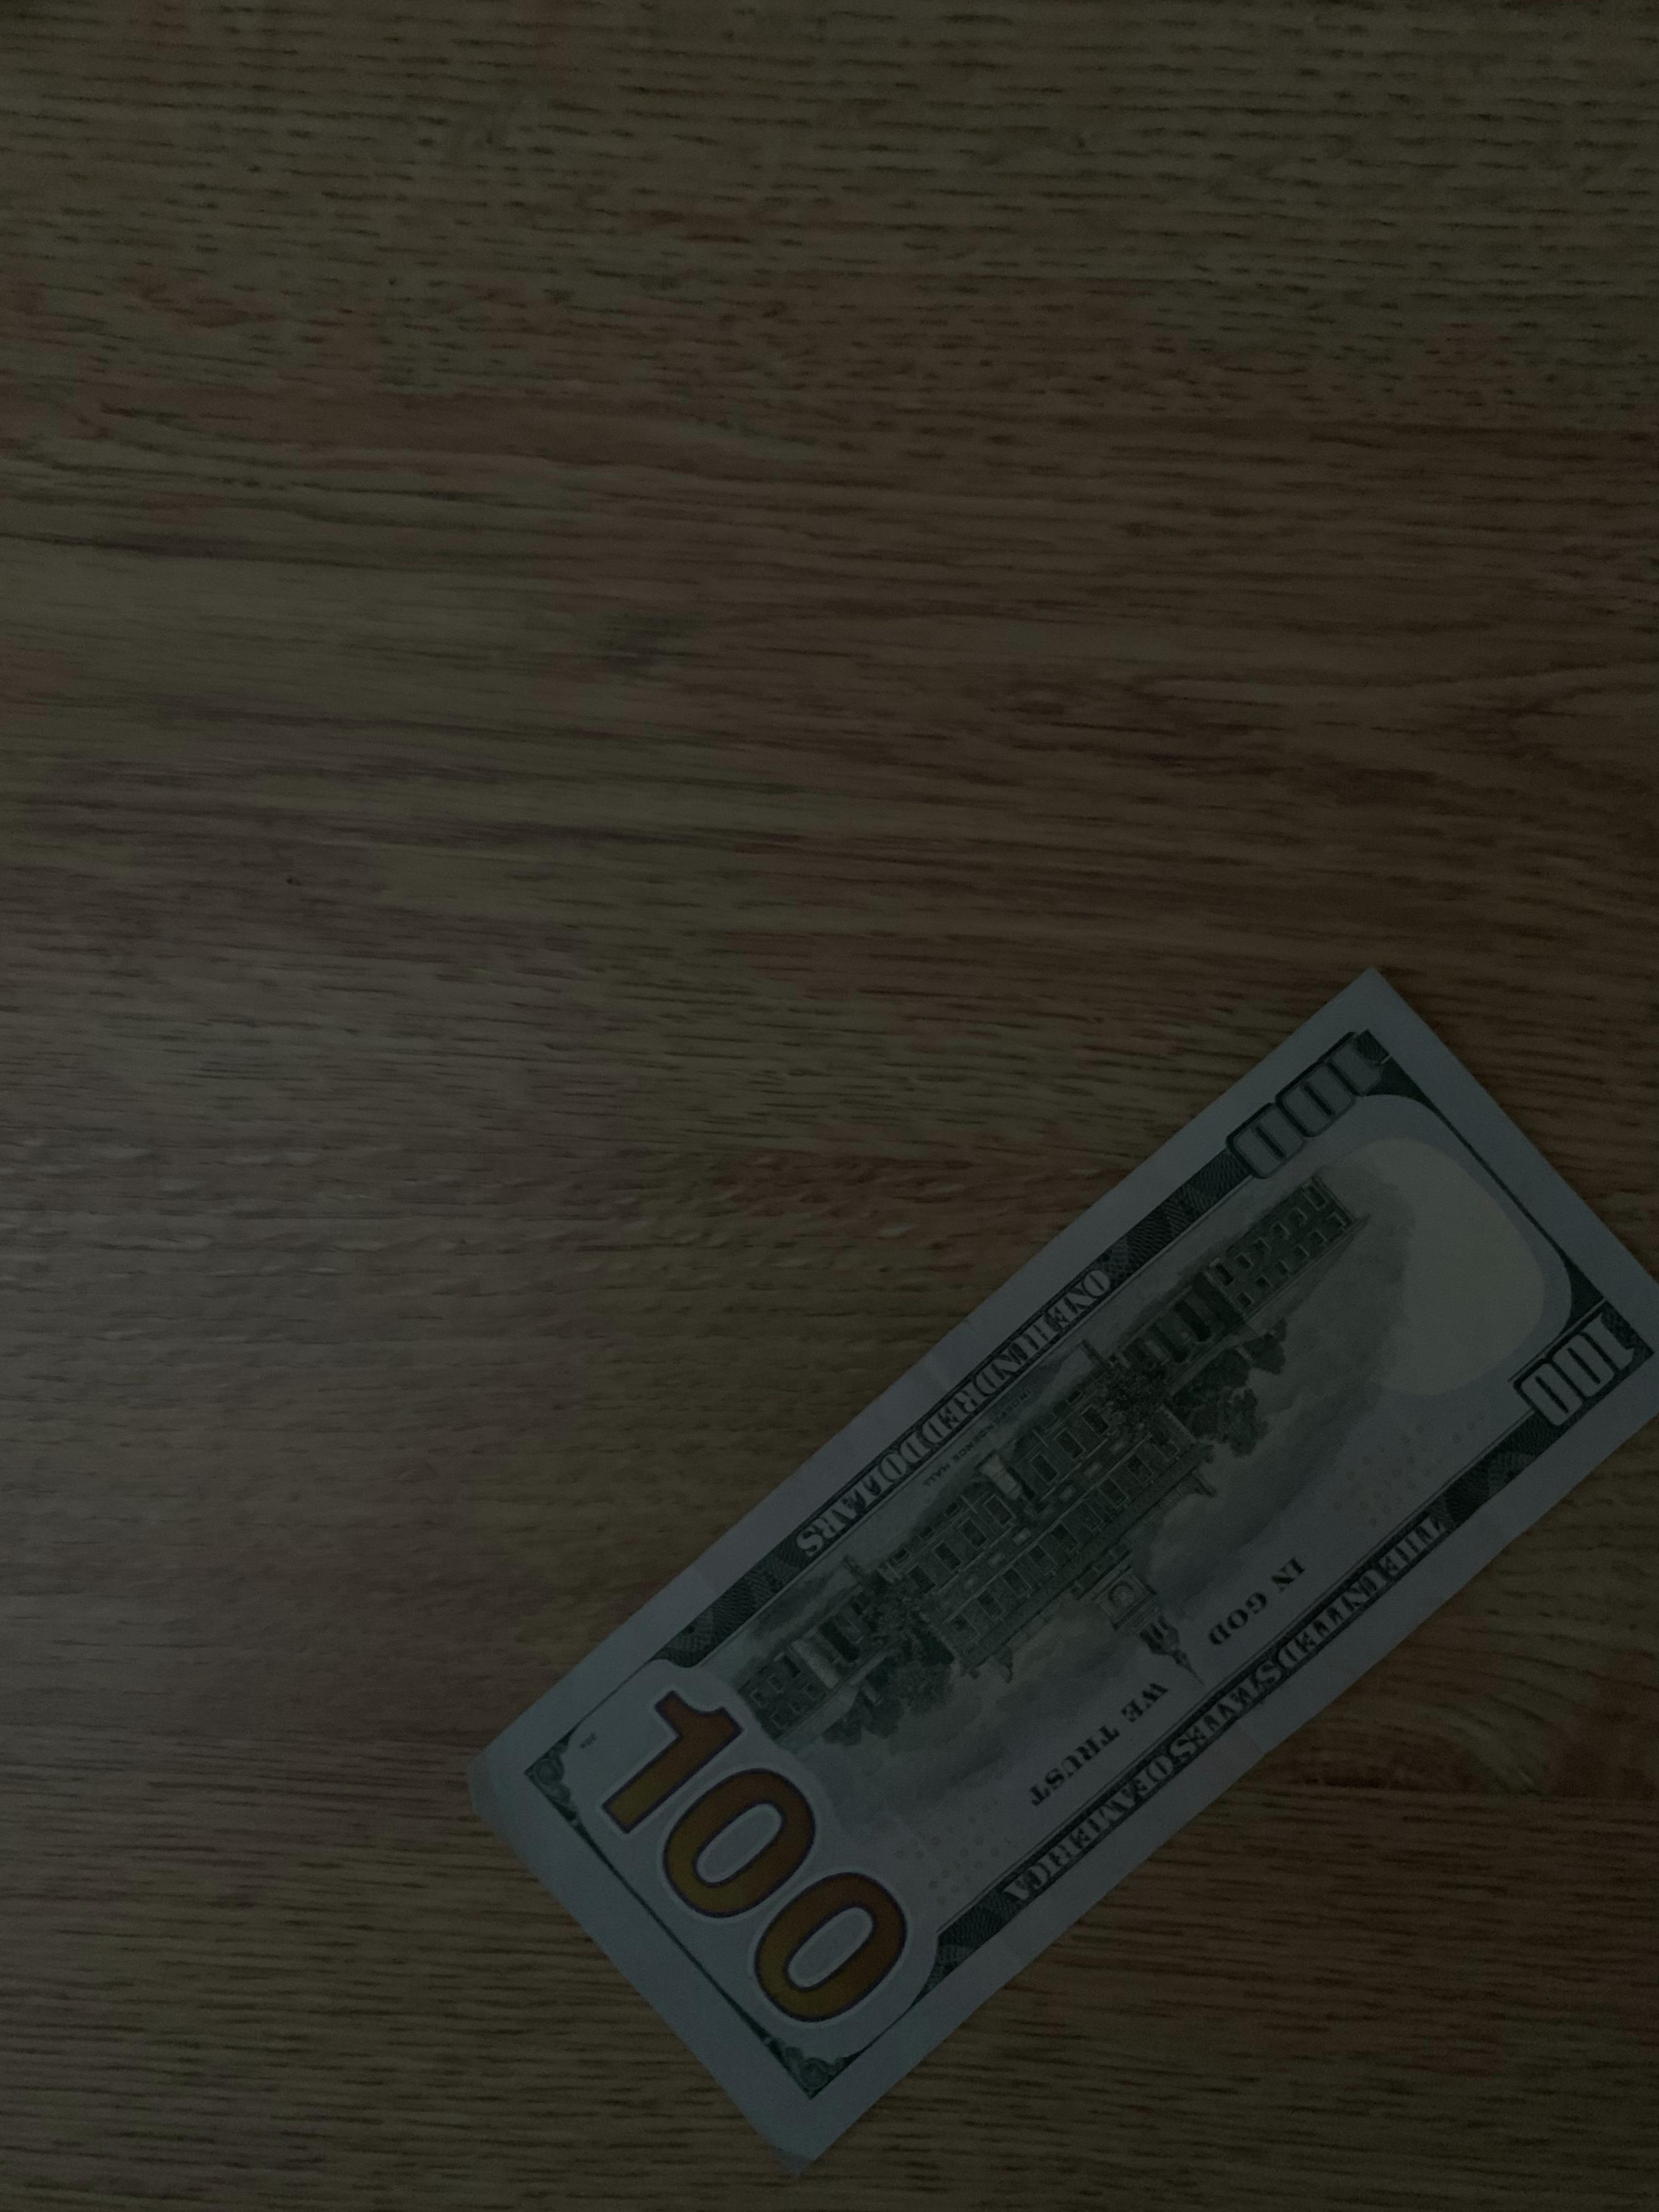HundredBill: (460, 954, 1657, 2158)
